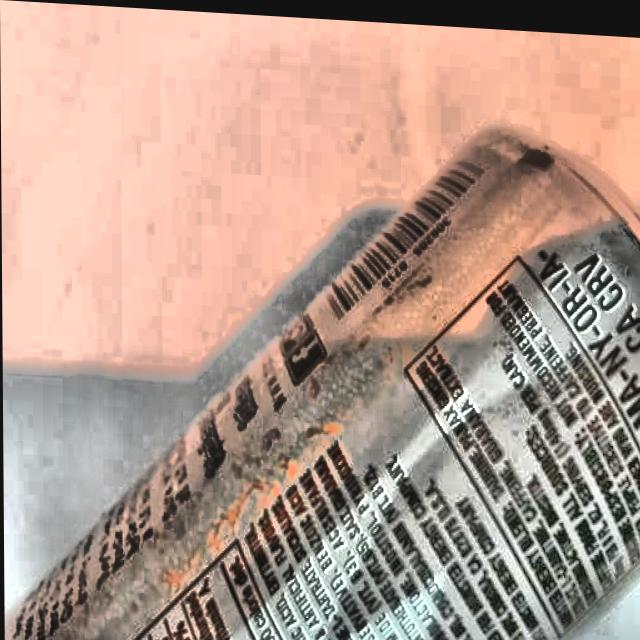Cans: (0, 66, 640, 640)
